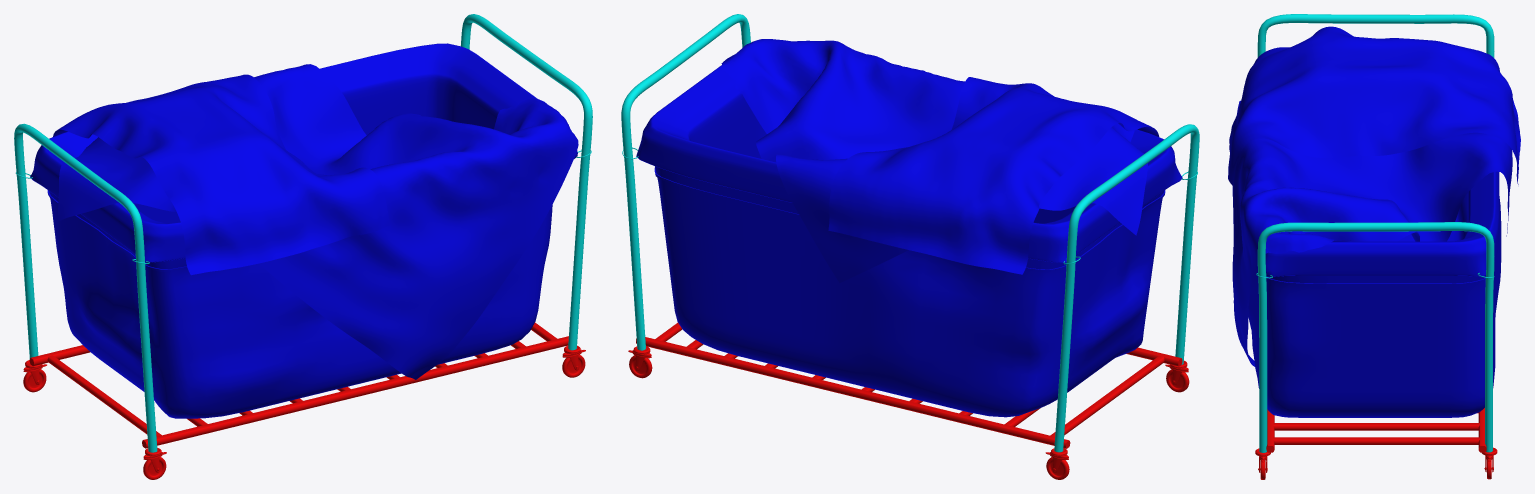
File: LaundryBinTEST.fbx
The picture shows the model from 3 angles, left to right: view 1: azimuth 30°, elevation 25°; view 2: azimuth 150°, elevation 25°; view 3: azimuth 270°, elevation 25°; orthographic projection. The views are drawn at different scales.
Visible parts, largest first — view 1: LaundryBinTest1; view 2: LaundryBinTest1; view 3: LaundryBinTest1.
Boxes of the visible parts, bbox=[...] form: LaundryBinTest1: bbox=[14, 14, 592, 479]; LaundryBinTest1: bbox=[621, 14, 1199, 479]; LaundryBinTest1: bbox=[1228, 14, 1520, 479].
Bounding box in the file's own units: 219 × 132 × 126.
